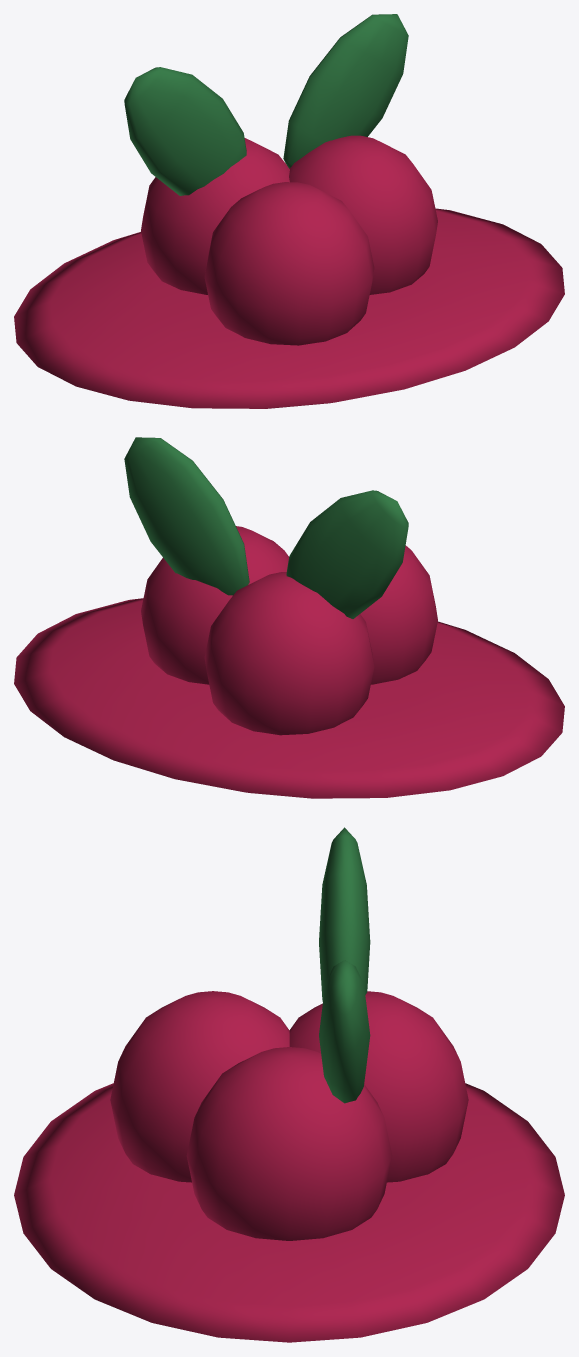
Rendered from item-berry-slick.glb.
3 views of the same model, one above another, from view 1: azimuth 30°, elevation 25°; view 2: azimuth 150°, elevation 25°; view 3: azimuth 270°, elevation 25° (orthographic). The views are drawn at different scales.
Visible parts, largest first — view 1: Item_berry-slick_VertexPalette; view 2: Item_berry-slick_VertexPalette; view 3: Item_berry-slick_VertexPalette.
Boxes of the visible parts, x1,y1,x2,y2 form: Item_berry-slick_VertexPalette: (14,14,564,408); Item_berry-slick_VertexPalette: (14,437,564,798); Item_berry-slick_VertexPalette: (14,827,564,1342).
Size of the model in its own units: 1.9 by 0.9921 by 1.5.
